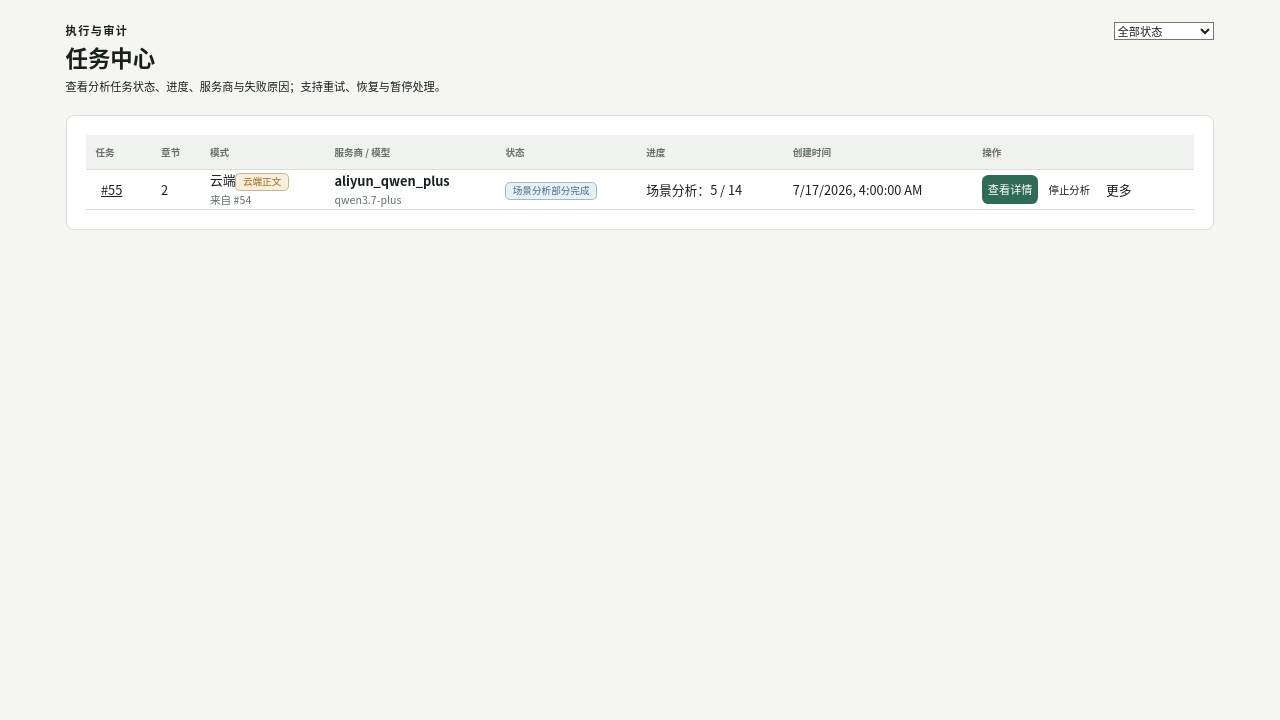
TasksPage Scene Analysis 恢复 › Artifact已恢复后详情显示历史失败Scene且统一恢复可用
Click the button "查看详情". click: x=1010, y=190
box: [982, 175, 1038, 204]
(page scrolled)
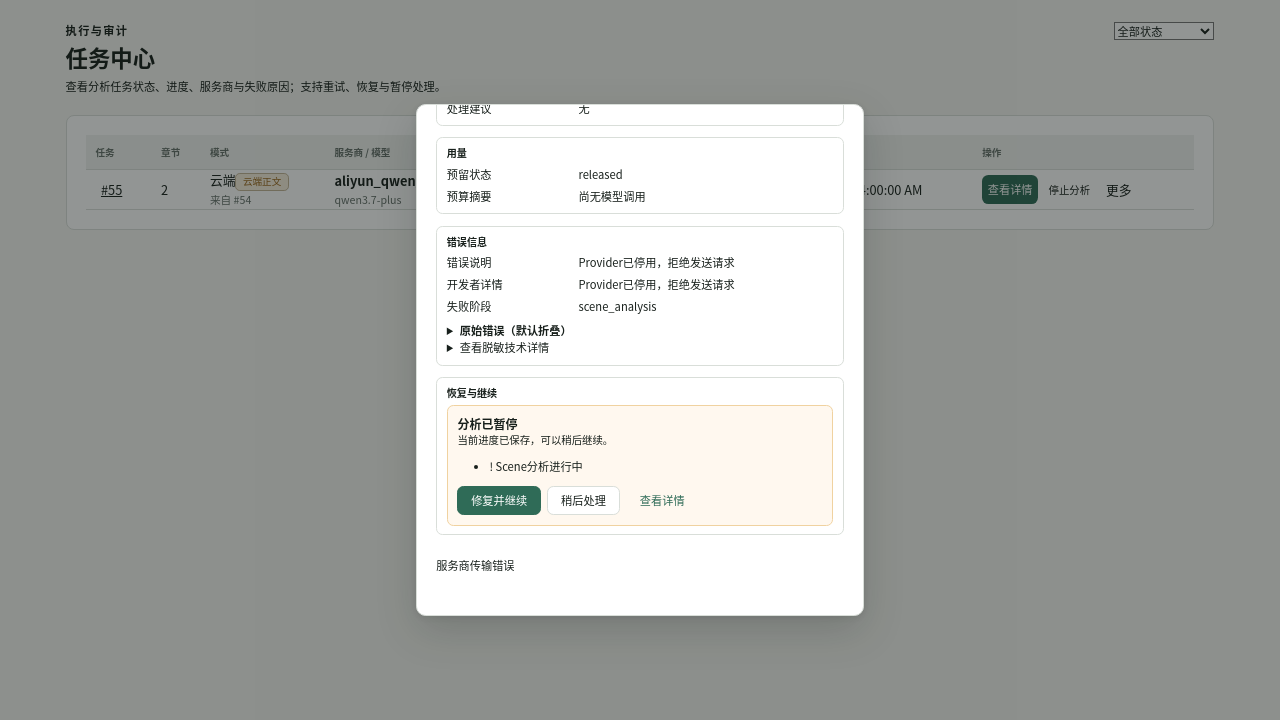
Check: the button with test id "unified-recovery-fix-continue" is enabled, box [457, 486, 541, 515]
